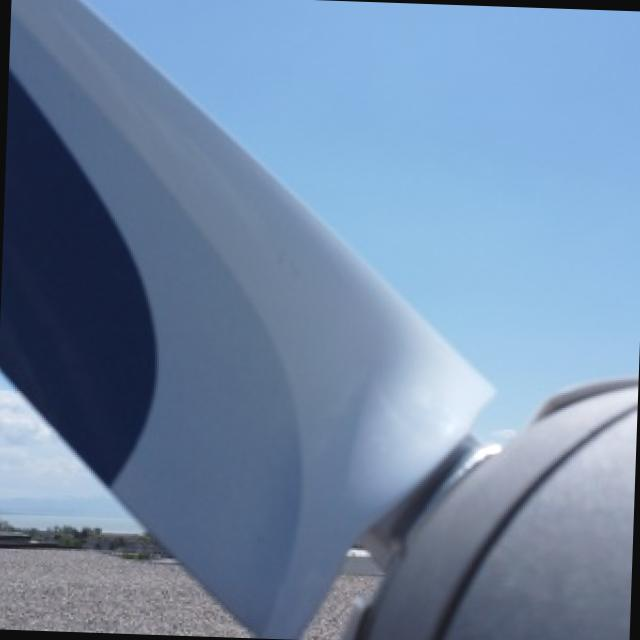healthy: (366, 380, 634, 640)
